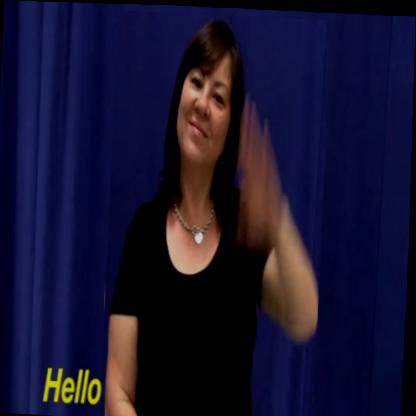Hello: (101, 9, 331, 416)
